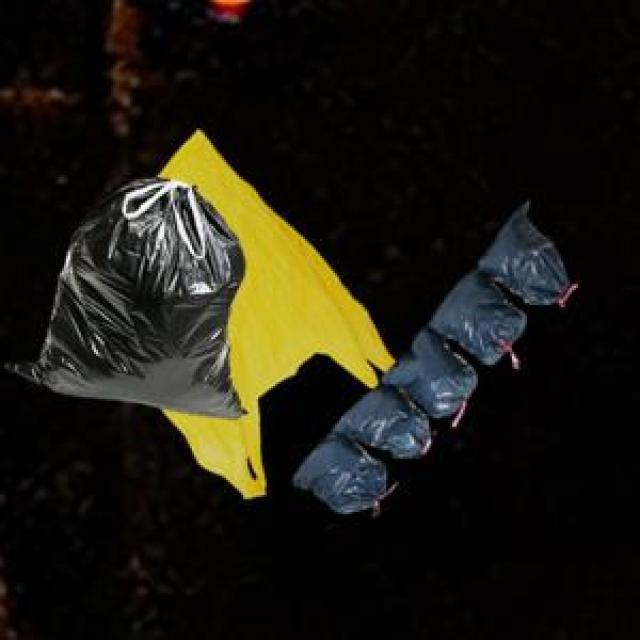miscellaneous trash: (290, 198, 563, 508), (2, 173, 243, 414)
